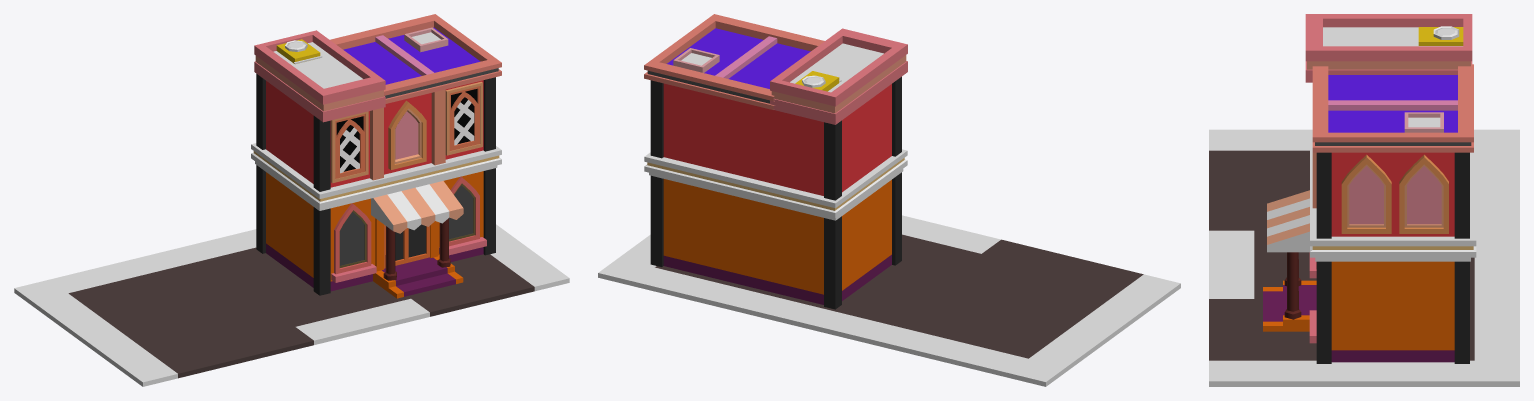
The model's file is Catering_Building_4.fbx.
3 renders of one model, left to right at view 1: azimuth 30°, elevation 25°; view 2: azimuth 150°, elevation 25°; view 3: azimuth 270°, elevation 25°, orthographic. The views are drawn at different scales.
Visible parts, largest first — view 1: Plan.001, Cube, Cube.002, Cube.001, Cube.008, Cube.003, Cube.019, Cube.005, Cube.006, Cube.028, Cube.010, Cube.016 (+11 smaller); view 2: Plan.001, Cube, Cube.002, Cube.001, Cube.008, Cube.003, Cube.026, Cube.007; view 3: Plan.001, Cube, Cube.002, Cube.001, Cube.003, Cube.008, Cube.019, Cube.025, Cube.023, Cube.005, Cube.022, Cube.024 (+4 smaller).
Part boxes in pixels (x1,y1,x2,y2): Plan.001: (14, 224, 569, 386); Cube: (251, 143, 501, 291); Cube.002: (266, 27, 483, 187); Cube.001: (254, 30, 385, 122); Cube.008: (256, 74, 495, 295); Cube.003: (330, 14, 501, 103); Cube.019: (371, 181, 463, 233); Cube.005: (373, 255, 463, 298); Cube.006: (370, 89, 445, 180); Cube.028: (335, 114, 365, 178); Cube.010: (449, 86, 479, 150); Cube.016: (339, 210, 366, 267); Plan.001: (598, 215, 1180, 386); Cube: (644, 149, 907, 304); Cube.002: (663, 28, 891, 195); Cube.001: (770, 28, 907, 124); Cube.008: (650, 76, 901, 309); Cube.003: (644, 14, 824, 109); Cube.026: (673, 48, 719, 72); Cube.007: (795, 71, 841, 91); Plan.001: (1209, 129, 1519, 386); Cube: (1310, 133, 1476, 362); Cube.002: (1328, 75, 1457, 236); Cube.001: (1305, 14, 1472, 82); Cube.003: (1312, 64, 1473, 152); Cube.008: (1316, 152, 1469, 363); Cube.019: (1267, 190, 1309, 252); Cube.025: (1404, 164, 1443, 227); Cube.023: (1347, 164, 1385, 227); Cube.005: (1263, 280, 1316, 331); Cube.022: (1341, 154, 1391, 233); Cube.024: (1399, 154, 1448, 233).
Bounding box in the file's own units: 1304 × 608 × 681.
